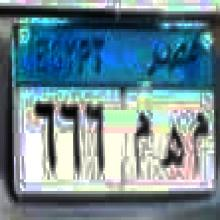6: (84, 103, 112, 176), (33, 98, 56, 175), (59, 103, 83, 173)
haa: (160, 122, 185, 176)
meem: (130, 106, 152, 180), (190, 106, 208, 172)
